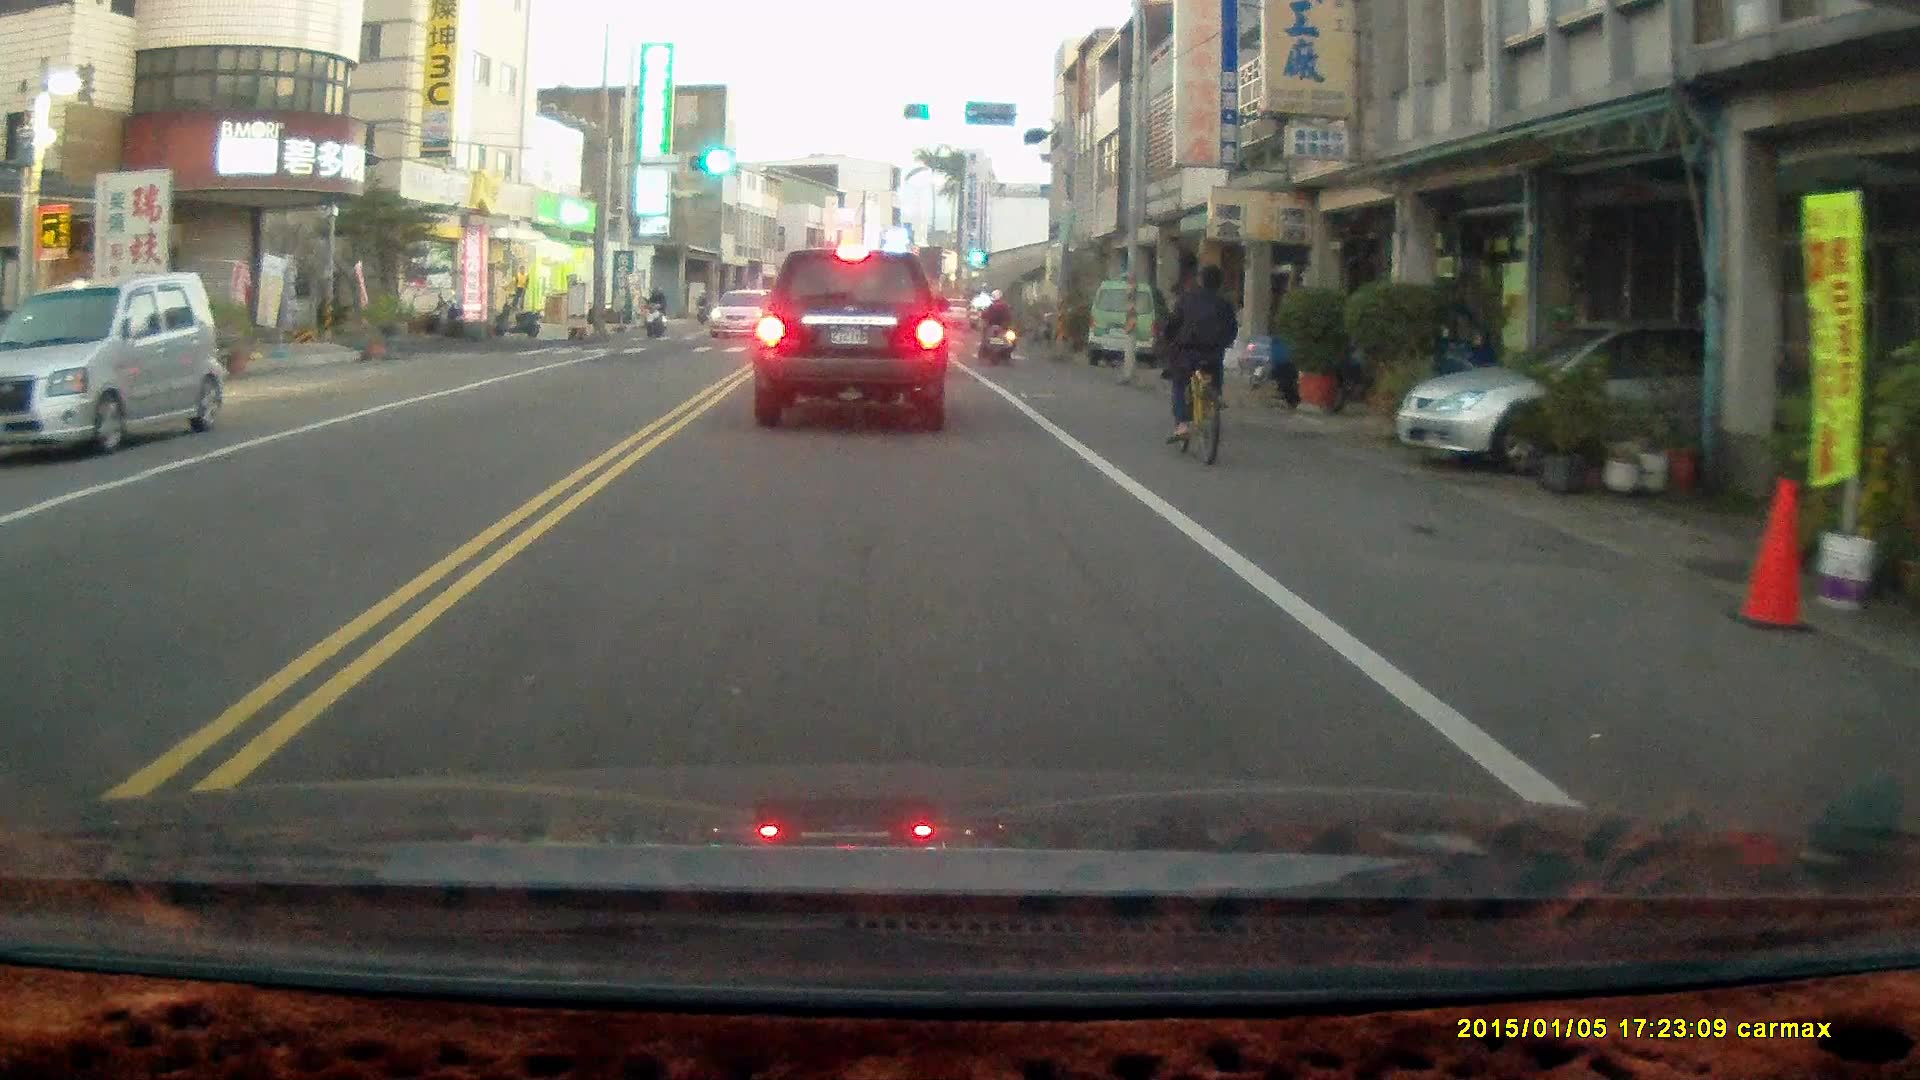pedestrian: (508, 262, 528, 311)
rider: (1169, 263, 1240, 465), (975, 286, 1018, 365), (639, 284, 668, 339)
vehicle: (1395, 322, 1821, 480), (5, 266, 229, 460), (749, 246, 953, 436), (1090, 283, 1174, 365)
